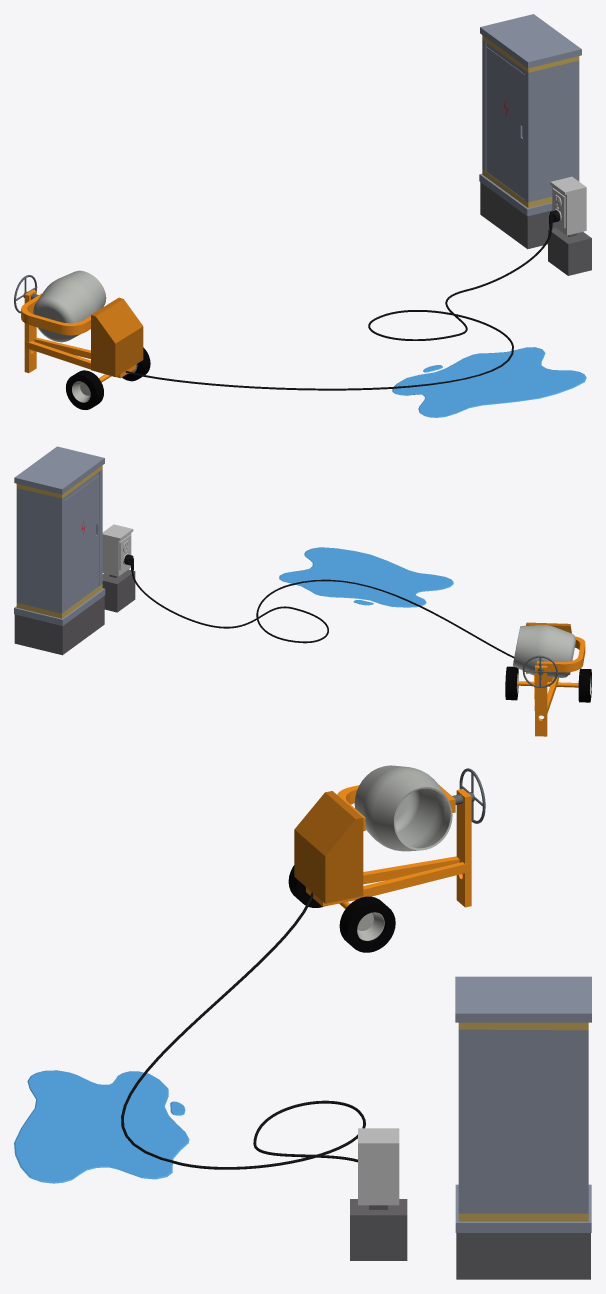
The model's file is Tu_dien_co_nuoc.fbx.
3 renders of one model, top to bottom at view 1: azimuth 30°, elevation 25°; view 2: azimuth 150°, elevation 25°; view 3: azimuth 270°, elevation 25°, orthographic. The views are drawn at different scales.
Visible parts, largest first — view 1: Cube, BIMEDU (17) BIMEDU (17) [680563].003, Nuoc, Cube.003, 220v cable, Cube.004, Cube.005; view 2: Cube, Nuoc, BIMEDU (17) BIMEDU (17) [680563].003, Cube.003, 220v cable, Cube.004, Cube.005, Cube.002, Cube.001; view 3: Cube, BIMEDU (17) BIMEDU (17) [680563].003, Nuoc, Cube.003, Cube.004, Cube.005, 220v cable, Cube.002, Cube.001.
Part boxes in pixels (x1,y1,x2,y2): Cube: (479, 14, 581, 216); BIMEDU (17) BIMEDU (17) [680563].003: (14, 270, 150, 409); Nuoc: (392, 347, 586, 417); Cube.003: (480, 182, 555, 249); 220v cable: (125, 230, 551, 390); Cube.004: (548, 227, 591, 275); Cube.005: (550, 176, 586, 235); Cube: (14, 446, 105, 625); Nuoc: (279, 547, 453, 607); BIMEDU (17) BIMEDU (17) [680563].003: (505, 622, 591, 736); Cube.003: (14, 596, 104, 655); 220v cable: (131, 572, 514, 658); Cube.004: (102, 569, 135, 612); Cube.005: (102, 524, 133, 576); Cube.002: (16, 584, 102, 618); Cube.001: (16, 465, 102, 498); Cube: (455, 976, 591, 1232); BIMEDU (17) BIMEDU (17) [680563].003: (288, 765, 485, 952); Nuoc: (14, 1070, 189, 1183); Cube.003: (456, 1233, 590, 1279); Cube.004: (350, 1199, 407, 1260); Cube.005: (358, 1128, 399, 1205); 220v cable: (121, 892, 365, 1169); Cube.002: (458, 1213, 588, 1221); Cube.001: (458, 1022, 588, 1030).
Size of the model in its own units: 490 by 155 by 301.
